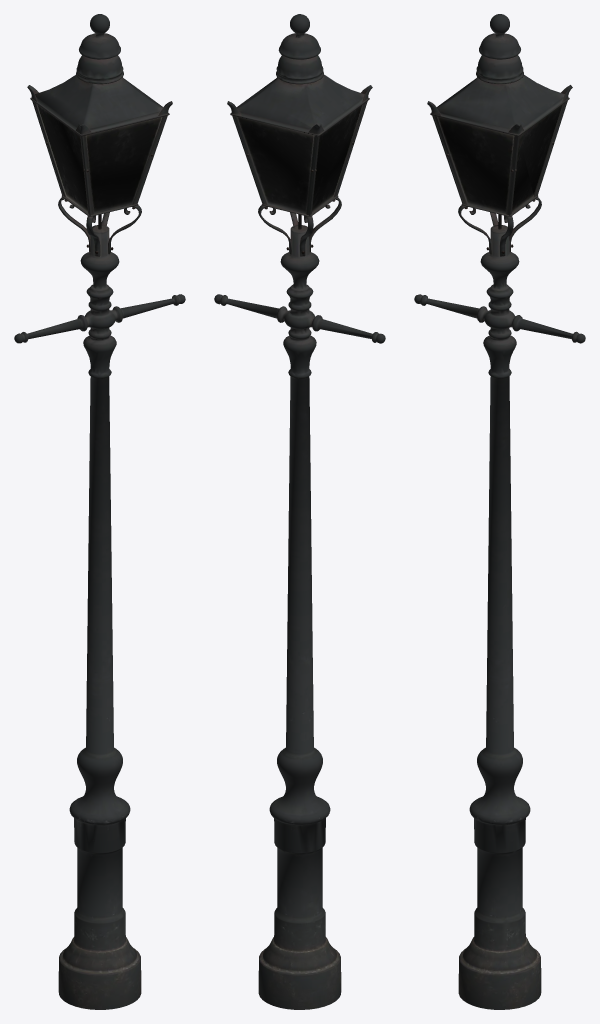
The model's file is street_lamp_01.glb.
3 views of the same model, side by side, from view 1: azimuth 30°, elevation 25°; view 2: azimuth 150°, elevation 25°; view 3: azimuth 330°, elevation 25° (orthographic).
Visible parts, largest first — view 1: street_lamp_01; view 2: street_lamp_01; view 3: street_lamp_01.
Boxes of the visible parts, left/top/right/bottom form: street_lamp_01: left=14, top=14, right=185, bottom=1009; street_lamp_01: left=214, top=14, right=385, bottom=1009; street_lamp_01: left=414, top=14, right=585, bottom=1009.
Bounding box in the file's own units: 0.7035 × 3.87 × 0.386.
2 materials, 2 textured.
